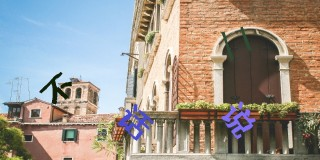不: (40, 71, 72, 104)
二: (219, 25, 254, 62)
话: (118, 103, 154, 140)
说: (220, 101, 256, 140)
